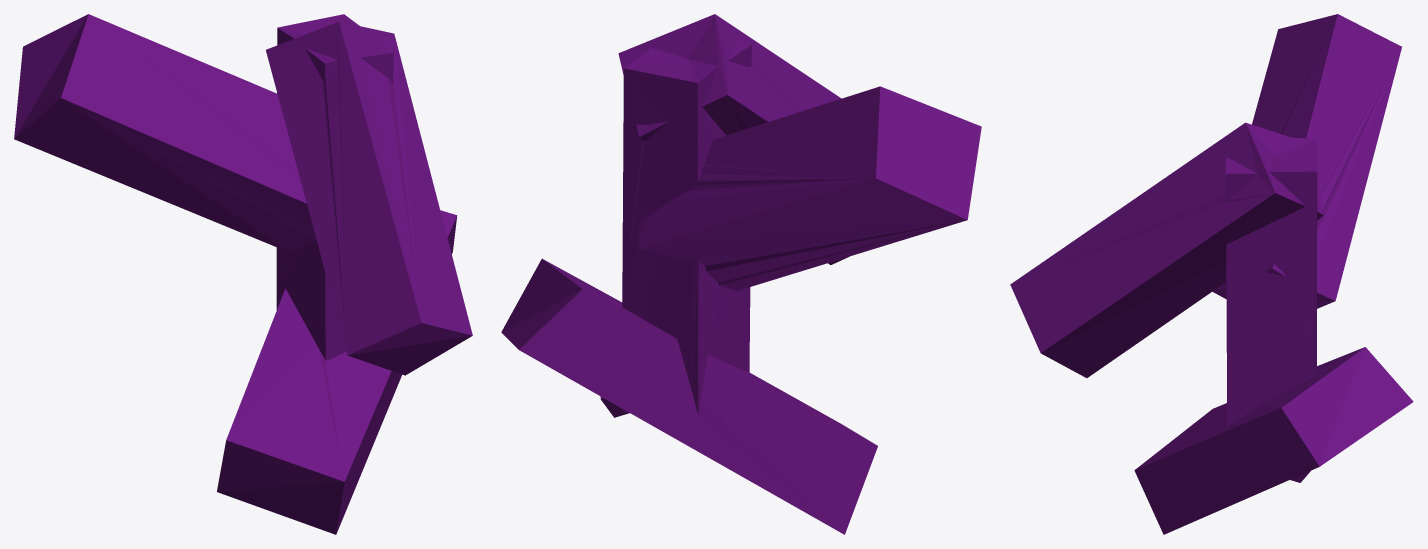
The picture shows the model from 3 angles, left to right: view 1: azimuth 30°, elevation 25°; view 2: azimuth 150°, elevation 25°; view 3: azimuth 270°, elevation 25°; orthographic projection. The views are drawn at different scales.
Visible parts, largest first — view 1: 699_Cube.2805; view 2: 699_Cube.2805; view 3: 699_Cube.2805.
Boxes of the visible parts, x1=… form: 699_Cube.2805: x1=14, y1=14, x2=472, y2=534; 699_Cube.2805: x1=501, y1=14, x2=981, y2=534; 699_Cube.2805: x1=1010, y1=14, x2=1413, y2=534.
Bounding box in the file's own units: 17.48 × 18.94 × 15.33.
